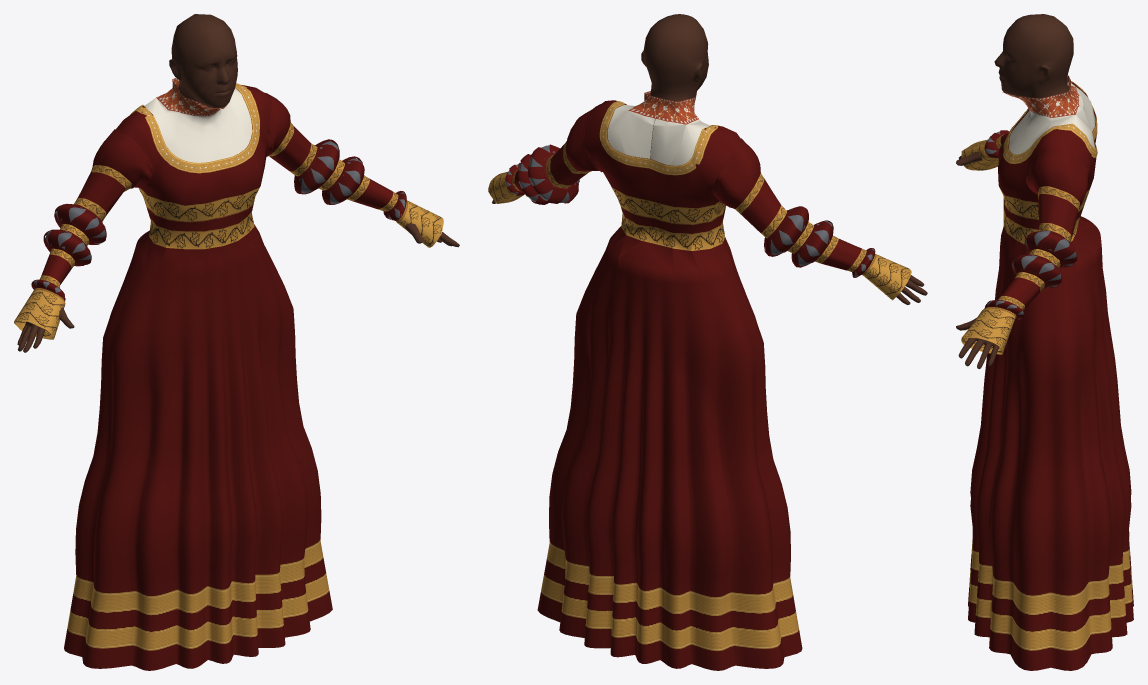
File: saxon-court.glb
The picture shows the model from 3 angles, left to right: view 1: azimuth 30°, elevation 25°; view 2: azimuth 150°, elevation 25°; view 3: azimuth 270°, elevation 25°; orthographic projection. The views are drawn at different scales.
Visible parts, largest first — view 1: article-1/outer_fabric, article-1/bodice_fabric, Reference wearer, article-3/outer_fabric, article-2/outer_fabric, article-0/outer_fabric, article-1/edge_binding, article-3/cuff, article-3/constriction_band, article-2/constriction_band, article-2/cuff, article-0/collar_fabric (+2 smaller); view 2: article-1/outer_fabric, article-1/bodice_fabric, article-3/outer_fabric, Reference wearer, article-0/outer_fabric, article-2/outer_fabric, article-1/edge_binding, article-3/constriction_band, article-0/collar_fabric, article-3/cuff, article-3/undercloth; view 3: article-1/outer_fabric, Reference wearer, article-2/outer_fabric, article-1/bodice_fabric, article-0/outer_fabric, article-2/cuff, article-2/constriction_band, article-0/collar_fabric, article-1/edge_binding, article-2/undercloth, article-3/cuff, article-3/outer_fabric.
Boxes of the visible parts, x1,y1,x2,y2 form: article-1/outer_fabric: (64,224,332,670); article-1/bodice_fabric: (116,85,270,249); Reference wearer: (17,14,459,352); article-3/outer_fabric: (31,129,153,300); article-2/outer_fabric: (265,93,406,220); article-0/outer_fabric: (144,88,252,162); article-1/edge_binding: (130,83,259,173); article-3/cuff: (14,289,65,339); article-3/constriction_band: (34,165,131,301); article-2/constriction_band: (269,122,407,223); article-2/cuff: (397,200,443,247); article-0/collar_fabric: (156,78,224,116); article-1/outer_fabric: (537,226,802,670); article-1/bodice_fabric: (583,100,740,250); article-3/outer_fabric: (711,138,875,277); Reference wearer: (492,14,927,304); article-0/outer_fabric: (607,104,710,165); article-2/outer_fabric: (505,104,602,204); article-1/edge_binding: (599,101,719,175); article-3/constriction_band: (735,173,876,275); article-0/collar_fabric: (628,90,698,124); article-3/cuff: (863,254,911,300); article-3/undercloth: (765,209,874,277); article-1/outer_fabric: (968,216,1133,670); Reference wearer: (956,14,1073,368); article-2/outer_fabric: (984,147,1088,319); article-1/bodice_fabric: (998,82,1096,244); article-0/outer_fabric: (1009,83,1095,154); article-2/cuff: (961,308,1015,354); article-2/constriction_band: (984,186,1079,318); article-0/collar_fabric: (1002,75,1079,117); article-1/edge_binding: (1003,81,1097,163); article-2/undercloth: (987,231,1076,319); article-3/cuff: (961,139,998,170); article-3/outer_fabric: (984,130,1008,158).
Size of the model in its own units: 1.28 by 1.73 by 0.4651.
Materials: 14 (11 with a texture image).
